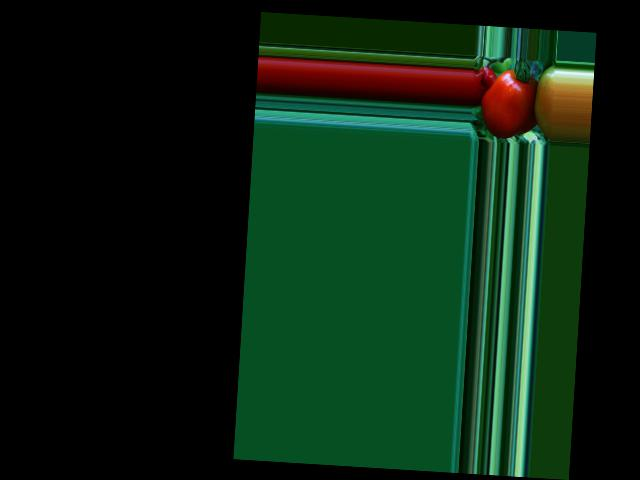tomato: (479, 68, 537, 140)
